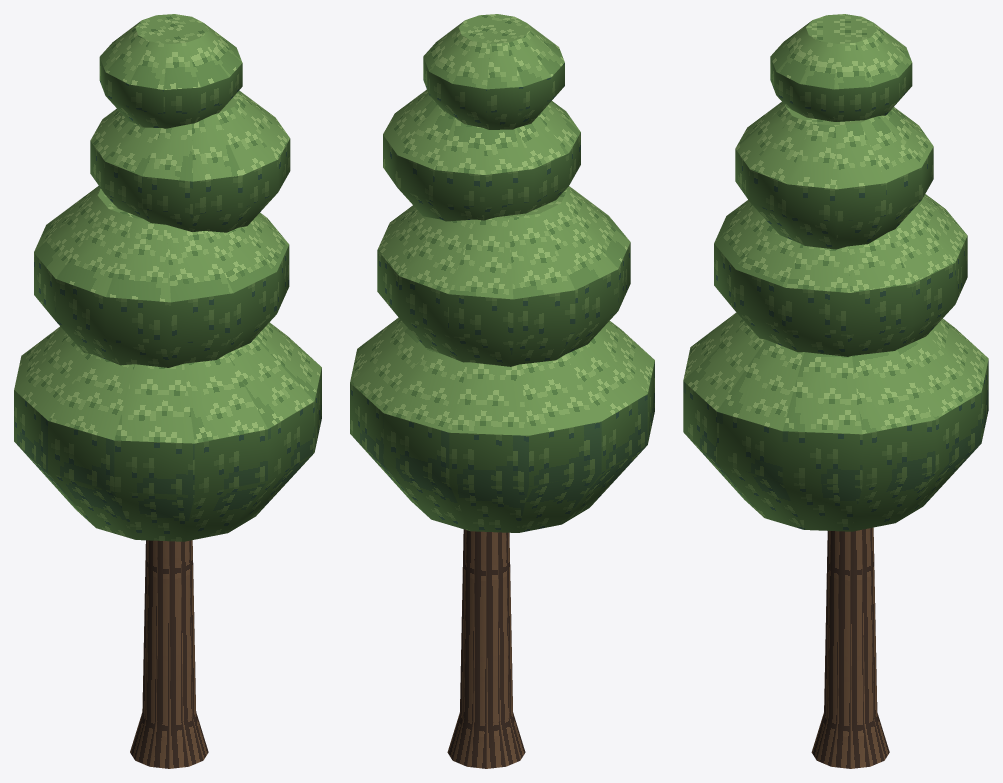
Rendered from poplar_4.glb.
3 renders of one model, left to right at view 1: azimuth 30°, elevation 25°; view 2: azimuth 150°, elevation 25°; view 3: azimuth 270°, elevation 25°, orthographic.
Parts seen in each view (by area): view 1: poplar_5; view 2: poplar_5; view 3: poplar_5.
Part boxes in pixels (x1,y1,x2,y2): poplar_5: (14,14,321,768); poplar_5: (350,14,654,768); poplar_5: (683,14,988,768).
Bounding box in the file's own units: 1.72 × 4.48 × 1.72.
3 materials, 3 textured.
